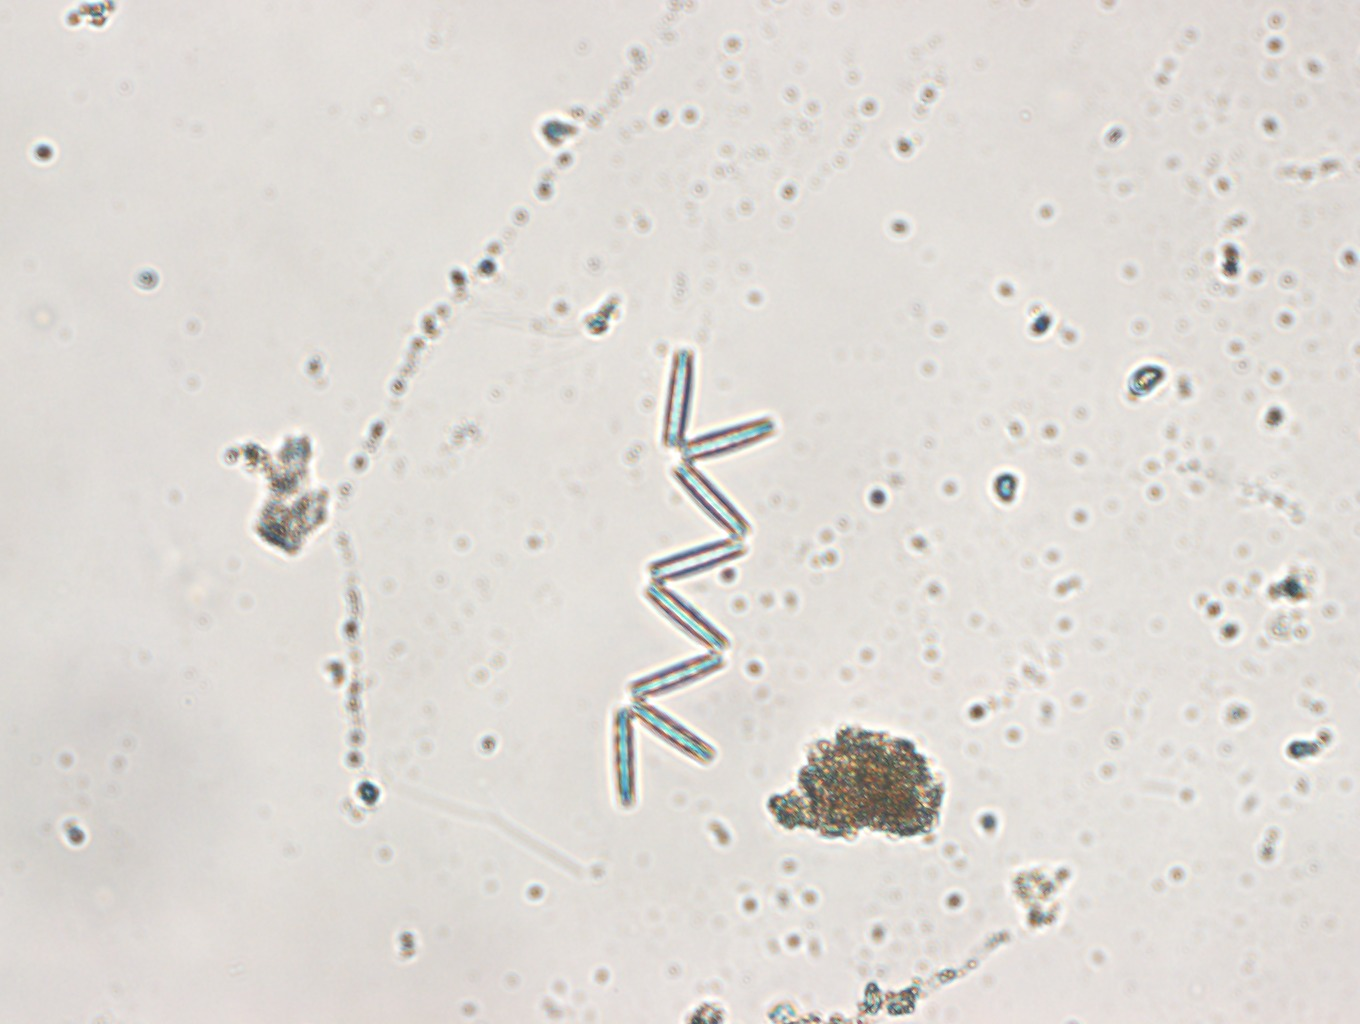thalassionema nitzschioides: (609, 350, 776, 809)
